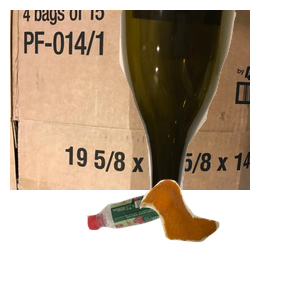cardboard: (10, 10, 250, 190)
glass: (117, 10, 300, 190)
plastic: (84, 191, 242, 300)
trash: (137, 177, 300, 300)
